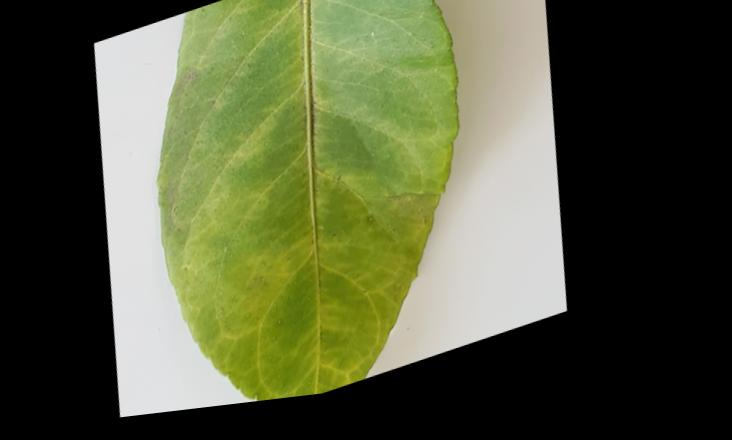Healthy Citrus: (94, 0, 542, 426)
